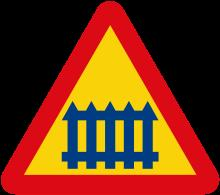Barrier Ahead: (16, 14, 208, 188)
